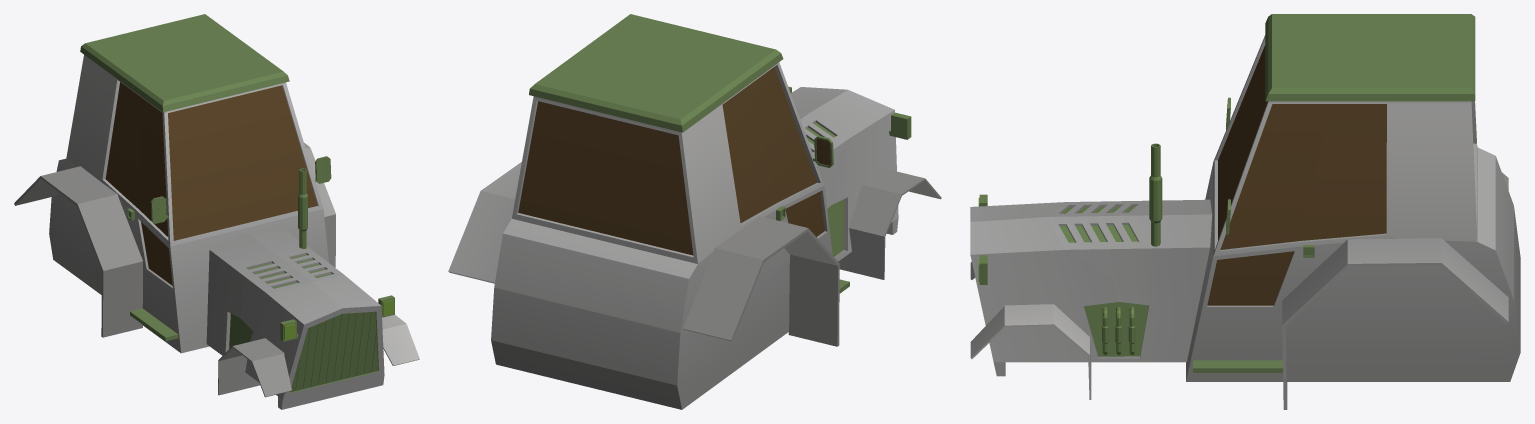
The model's file is Tractor_03.fbx.
3 views of the same model, side by side, from view 1: azimuth 30°, elevation 25°; view 2: azimuth 150°, elevation 25°; view 3: azimuth 270°, elevation 25° (orthographic). The views are drawn at different scales.
Parts seen in each view (by area): view 1: Tractor_03; view 2: Tractor_03; view 3: Tractor_03.
Boxes of the visible parts, x1,y1,x2,y2 form: Tractor_03: (14, 14, 419, 409); Tractor_03: (448, 14, 941, 409); Tractor_03: (970, 14, 1520, 409).
Bounding box in the file's own units: 2.11 × 2.06 × 3.41.
